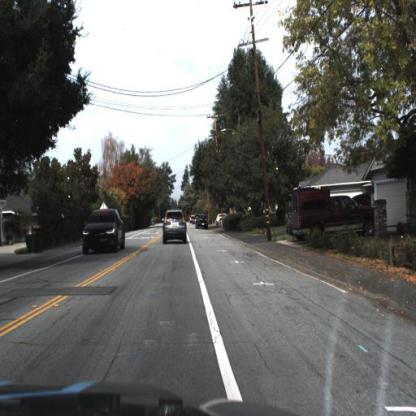car: (291, 181, 376, 246), (80, 206, 128, 260), (160, 209, 190, 249), (215, 211, 238, 226), (196, 212, 211, 233)
